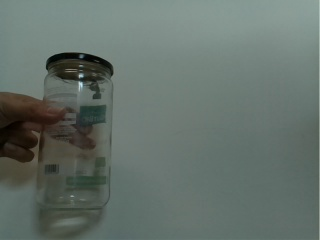pote cristal: (32, 49, 116, 218)
